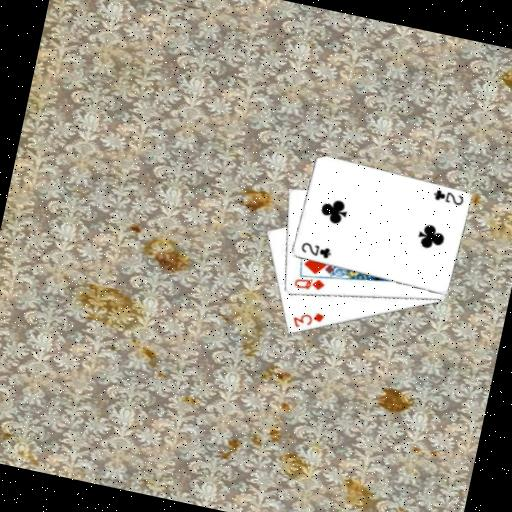2C: (296, 238, 334, 261), (429, 186, 465, 208)
3D: (288, 304, 327, 334)
QD: (289, 271, 327, 296)
